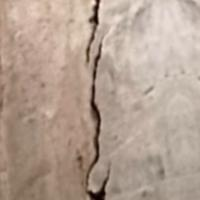crack: (74, 0, 134, 199)
